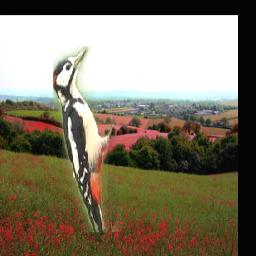Woodpecker: (54, 46, 123, 232)
